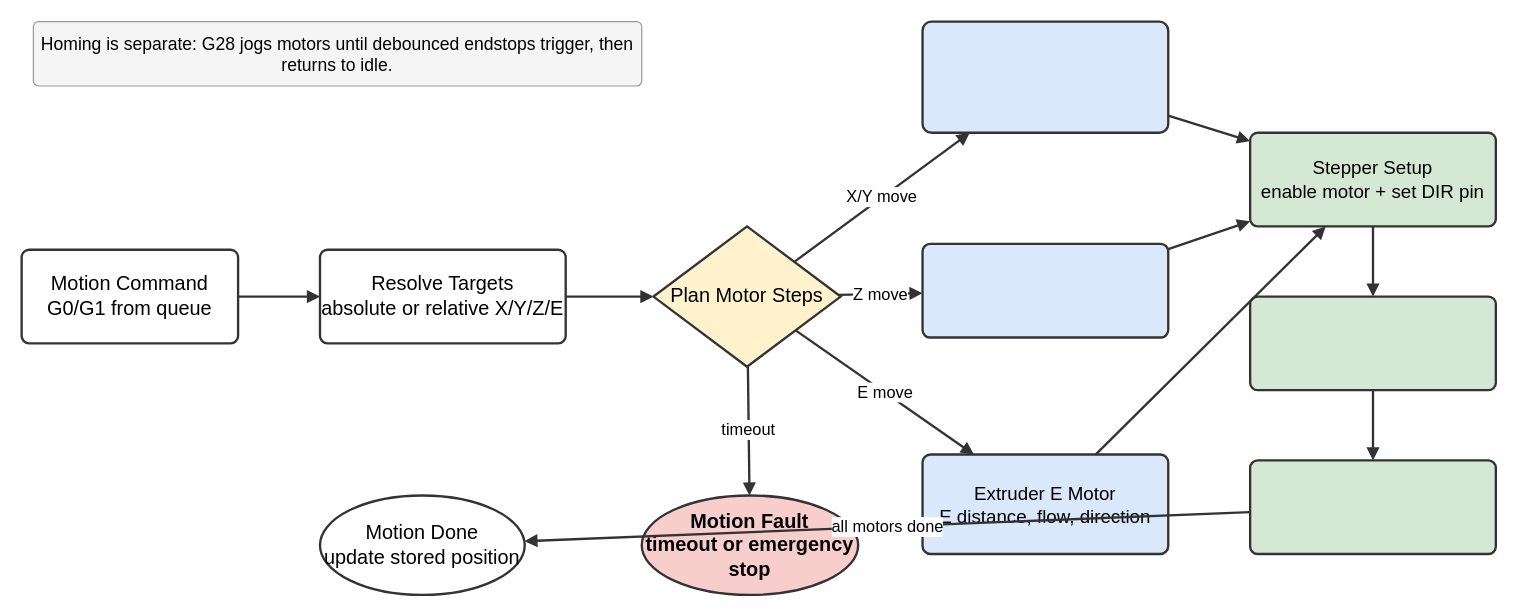
The diagram is 1516 pixels wide and 615 high, and some of its shapes have lost their labels. The box of each missing label's shape, as (x1, y1, x2, y2) in pixels:
CoreXY A/B Motors A steps = X + Y B steps = X - Y: (921, 20, 1169, 133)
ISR Counts Steps stop when count reaches zero: (1248, 459, 1496, 555)
Timer Pulses TIM3 A/B, TIM15 Z, TIM17 E: (1248, 295, 1496, 391)
Z Motor Z distance to steps: (921, 242, 1169, 338)
